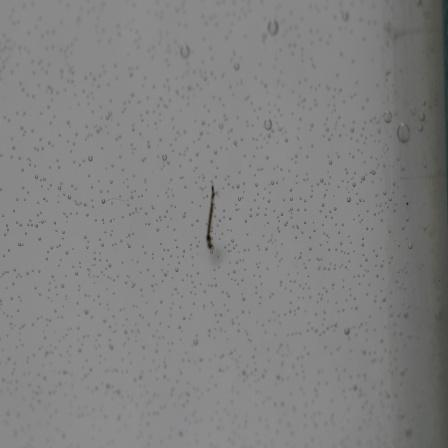Jentik-Nyamuk: (203, 181, 218, 253)
